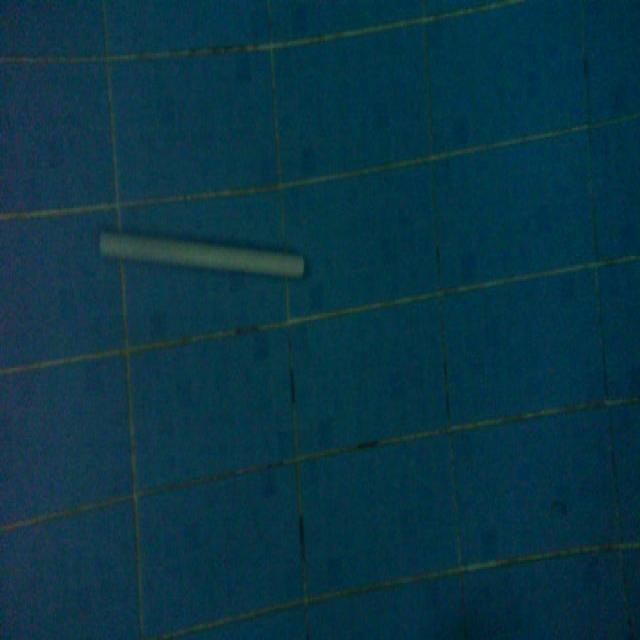Cube: (97, 222, 306, 284)
